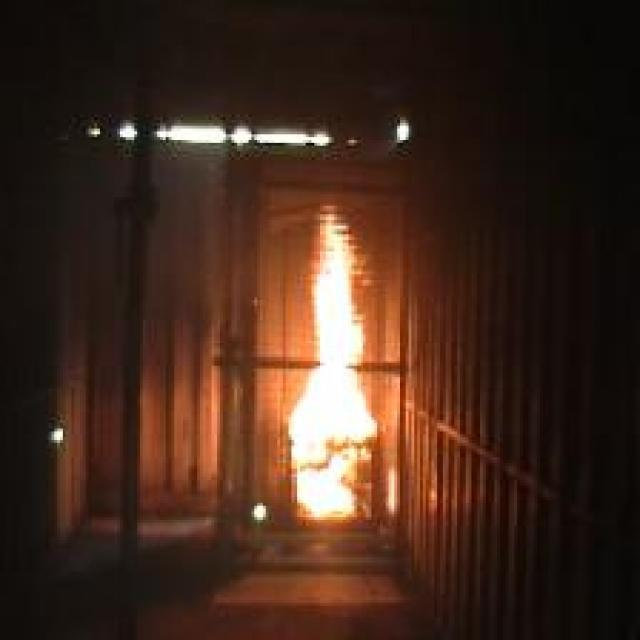Fire: (290, 202, 379, 518)
